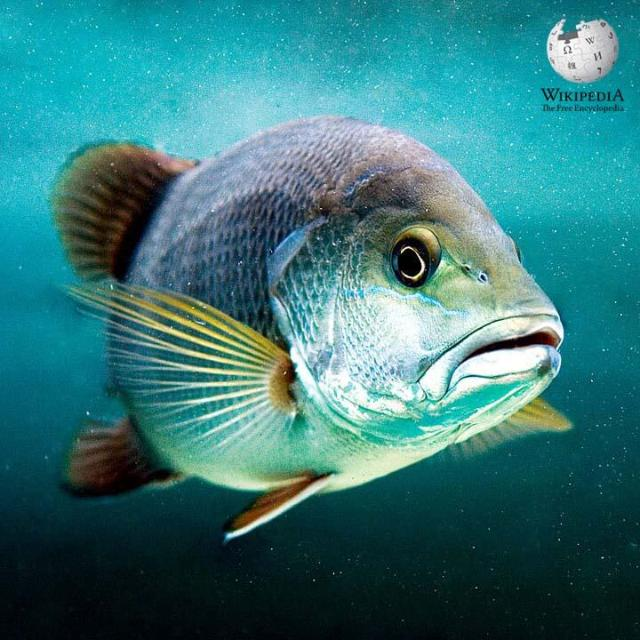Mulut: (426, 286, 588, 414)
Sirip Anal: (31, 390, 201, 524)
Sirip Dada: (39, 245, 328, 490), (430, 390, 590, 492)
Sirip Perut: (205, 450, 357, 572)
Sirip Punggung: (27, 98, 222, 310)
